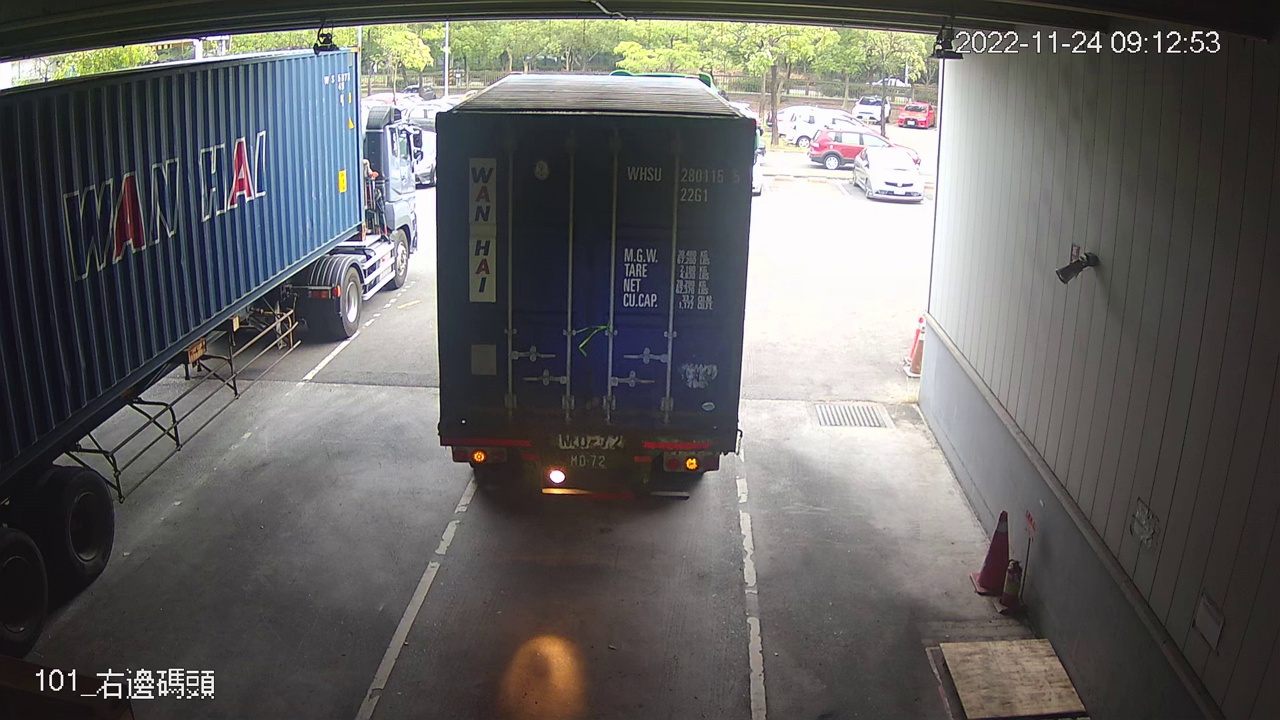container: (621, 156, 747, 208)
